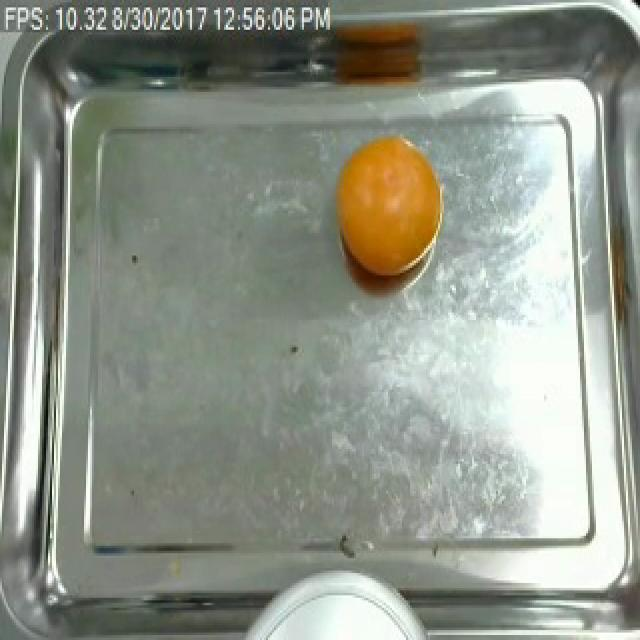Fruit: (330, 129, 450, 278)
